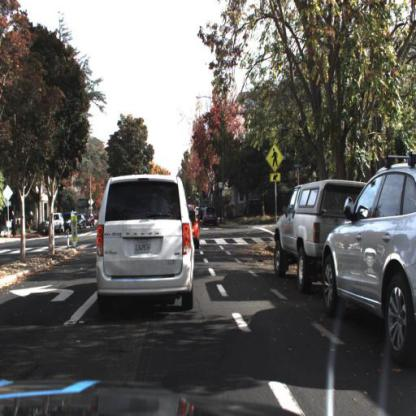car: (320, 145, 416, 371), (95, 173, 197, 313), (276, 175, 377, 291), (183, 201, 205, 257), (243, 197, 267, 224), (44, 212, 67, 237), (60, 212, 78, 237), (201, 204, 219, 229), (203, 206, 218, 229)
pedestrian: (10, 205, 20, 239)
